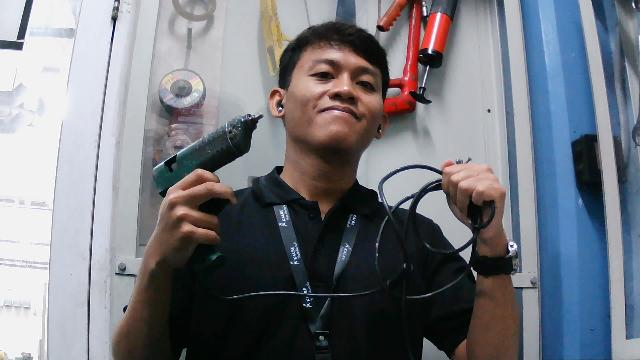gun_lem: (144, 107, 269, 274)
